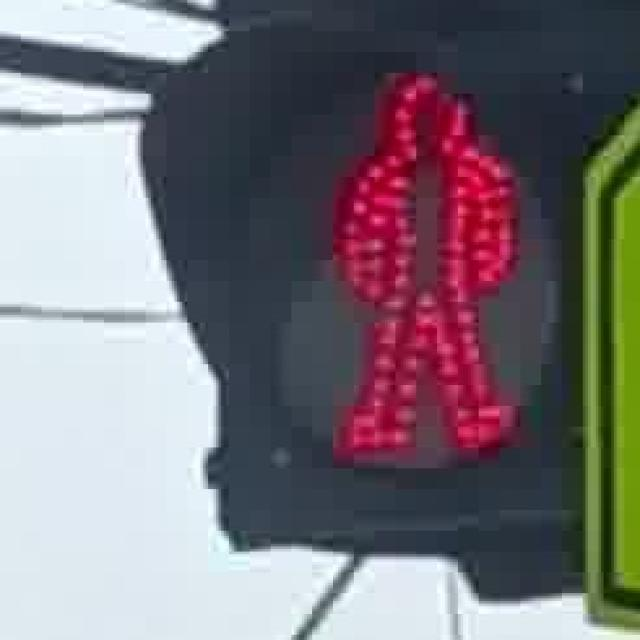red-crossing: (291, 41, 544, 464)
